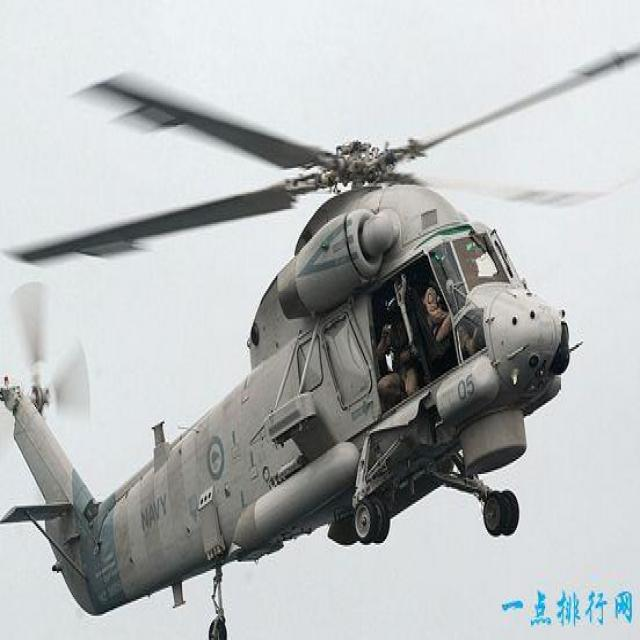MIL_HELO: (0, 33, 622, 640)
